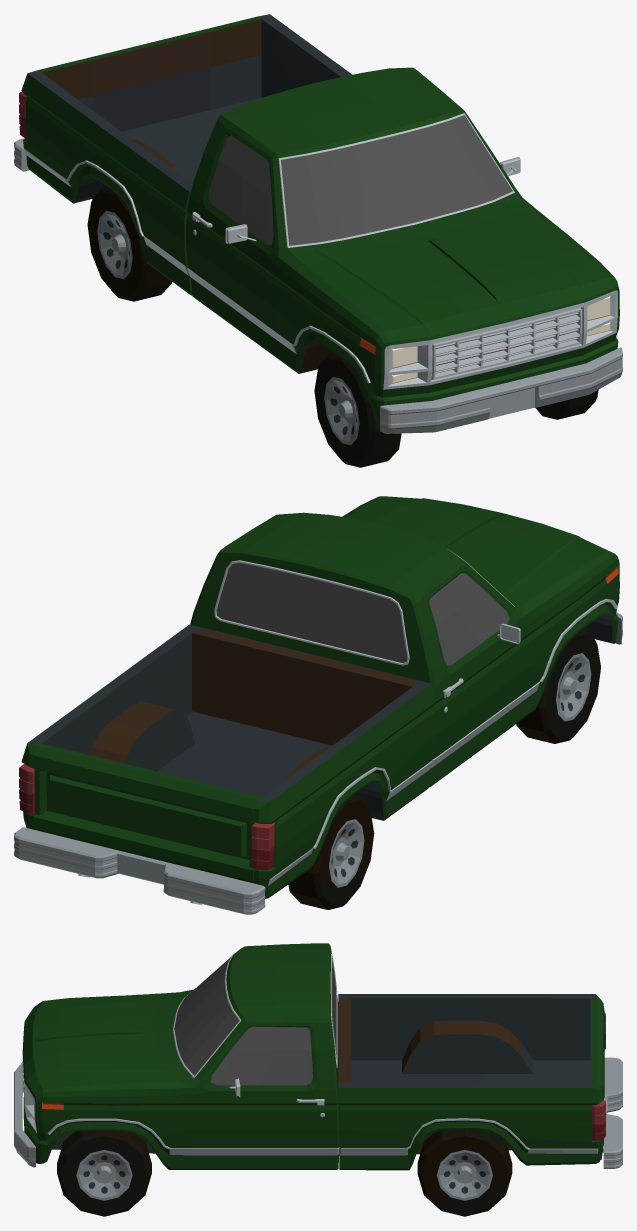
Rendered from 1985-ford-f-150-ranger-13ca81.glb.
3 views of the same model, one above another, from view 1: azimuth 30°, elevation 25°; view 2: azimuth 150°, elevation 25°; view 3: azimuth 270°, elevation 25° (orthographic). The views are drawn at different scales.
Visible parts, largest first — view 1: body; view 2: body; view 3: body.
Part boxes in pixels (left/top/right/bottom): body: left=14, top=14, right=622, bottom=467; body: left=14, top=496, right=622, bottom=914; body: left=14, top=943, right=622, bottom=1216.
Size of the model in its own units: 1.88 by 1.54 by 4.24.
Materials: 3 (1 with a texture image).
